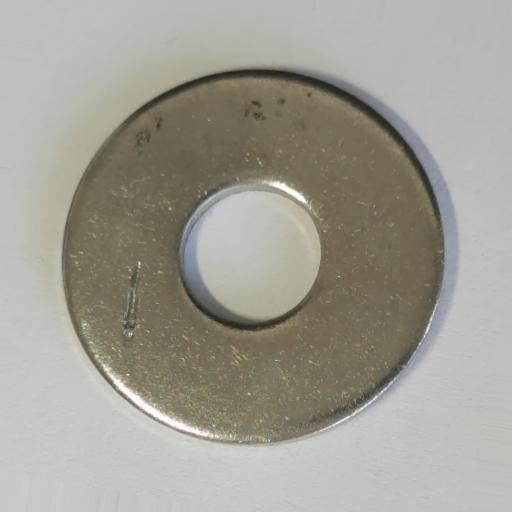scratch: (120, 259, 142, 342)
